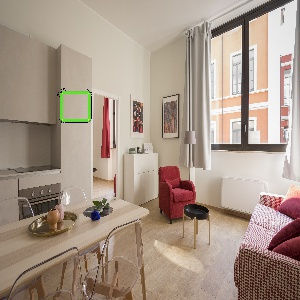square: (57, 87, 94, 124)
